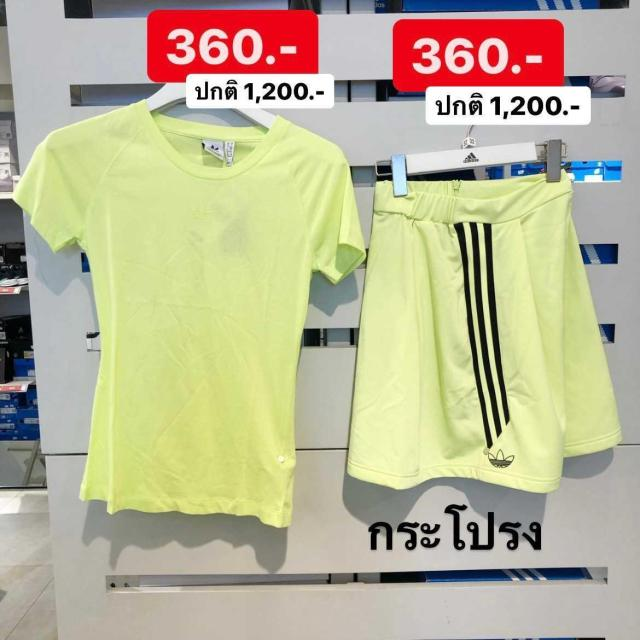Tshirt: (8, 95, 366, 538)
skirt: (335, 150, 627, 499)
